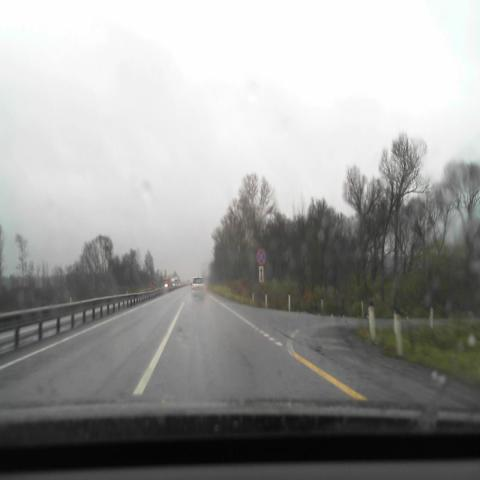3_27: (256, 248, 266, 265)
